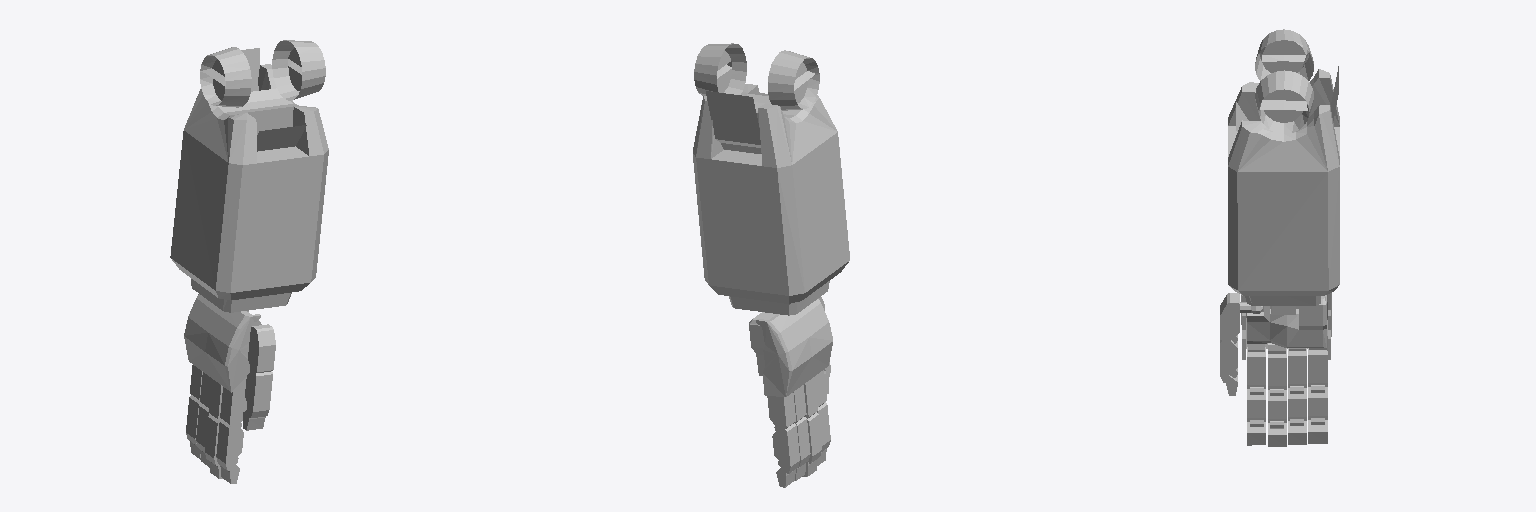
The model's file is lowerA.obj.
The picture shows the model from 3 angles: view 1: azimuth 30°, elevation 25°; view 2: azimuth 150°, elevation 25°; view 3: azimuth 270°, elevation 25°; orthographic projection.
Visible parts, largest first — view 1: handA:polySurface666; view 2: handA:polySurface666; view 3: handA:polySurface666.
Part boxes in pixels (x1,y1,x2,y2): handA:polySurface666: (170,40,328,483); handA:polySurface666: (693,43,849,487); handA:polySurface666: (1220,29,1339,446).
Size of the model in its own units: 2.33 by 7.57 by 1.96.